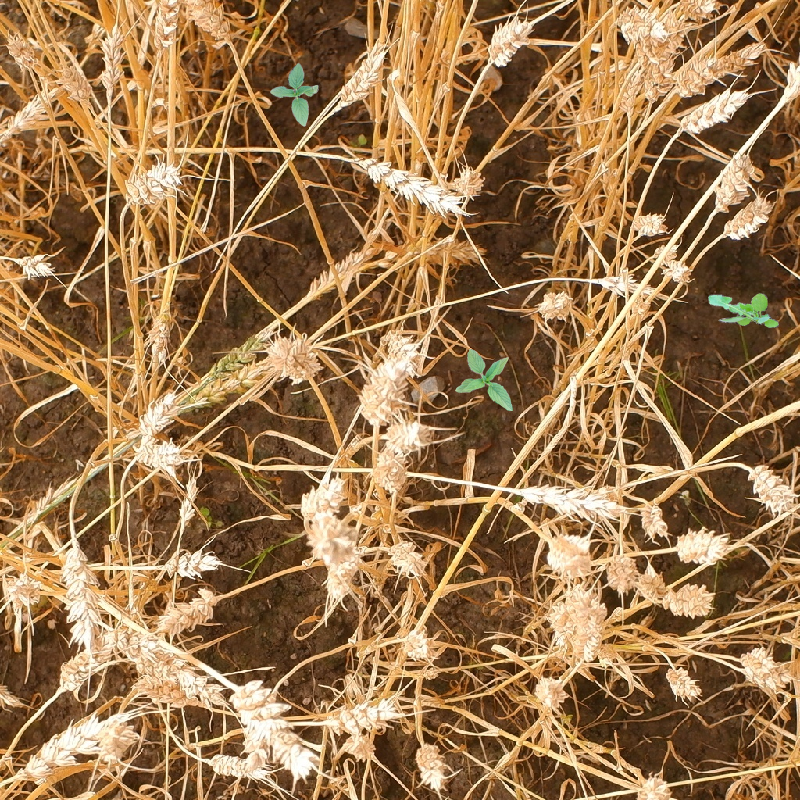spikelet: (229, 674, 316, 779), (16, 706, 120, 781), (356, 152, 468, 219), (354, 331, 422, 425), (53, 533, 108, 649), (510, 475, 624, 522), (326, 38, 394, 116), (670, 41, 764, 96), (674, 84, 752, 137), (548, 585, 603, 660), (1, 83, 57, 156), (126, 387, 180, 459), (120, 155, 186, 210), (265, 327, 323, 385), (153, 584, 219, 634), (334, 688, 402, 736), (745, 460, 799, 520), (481, 12, 535, 70), (708, 150, 759, 210), (131, 429, 190, 479), (718, 192, 776, 242), (672, 522, 732, 567), (541, 528, 594, 578), (90, 709, 137, 765), (202, 747, 269, 785), (615, 2, 670, 48), (161, 542, 224, 581), (297, 472, 347, 519), (53, 646, 101, 694), (738, 643, 784, 693), (1, 564, 45, 615), (411, 737, 451, 791), (661, 579, 716, 618), (321, 548, 360, 603), (382, 412, 430, 456), (367, 446, 410, 495), (144, 305, 177, 367), (385, 534, 430, 579), (98, 24, 127, 93), (12, 243, 60, 284), (534, 285, 577, 325), (395, 622, 436, 663), (602, 549, 639, 594), (530, 671, 569, 713), (662, 662, 702, 701), (450, 162, 488, 201), (598, 264, 639, 299), (629, 770, 675, 800), (153, 1, 179, 54), (630, 207, 670, 240), (636, 499, 668, 538), (663, 256, 693, 286)
weed: (455, 349, 513, 411), (270, 63, 319, 127), (708, 293, 779, 328)
